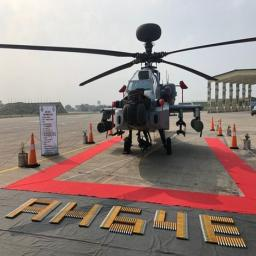helicopter: (48, 20, 232, 162)
